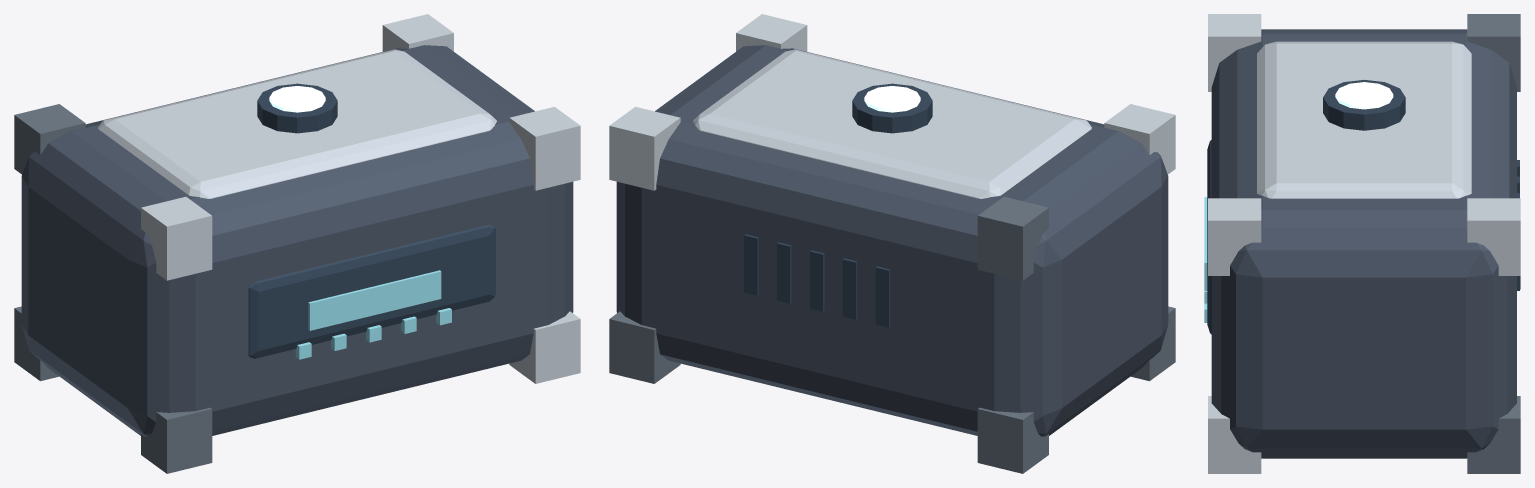
The model's file is box_loot_detail.glb.
3 views of the same model, side by side, from view 1: azimuth 30°, elevation 25°; view 2: azimuth 150°, elevation 25°; view 3: azimuth 270°, elevation 25° (orthographic). The views are drawn at different scales.
Parts seen in each view (by area): view 1: sci_fi_chassis, reinforced_lid, front_interface_armor, outer_corner_joint_011, outer_corner_joint_111, front_hologram_window, outer_corner_joint_010, outer_corner_joint_110, outer_corner_joint_001, top_lock, outer_corner_joint_101, top_lock_energy (+1 smaller); view 2: sci_fi_chassis, reinforced_lid, outer_corner_joint_001, outer_corner_joint_101, outer_corner_joint_000, outer_corner_joint_100, outer_corner_joint_011, top_lock, outer_corner_joint_111, top_lock_energy, outer_corner_joint_010, rear_heat_vents_-1 (+4 smaller); view 3: sci_fi_chassis, reinforced_lid, outer_corner_joint_101, outer_corner_joint_111, top_lock, outer_corner_joint_100, outer_corner_joint_001, outer_corner_joint_011, outer_corner_joint_110, top_lock_energy, front_interface_armor, front_hologram_window.
Boxes of the visible parts, box(x1,y1,x2,y2) form: sci_fi_chassis: box(21, 45, 573, 436); reinforced_lid: box(98, 49, 496, 198); front_interface_armor: box(248, 224, 495, 358); outer_corner_joint_011: box(141, 196, 212, 280); outer_corner_joint_111: box(509, 106, 580, 190); front_hologram_window: box(308, 270, 441, 330); outer_corner_joint_010: box(141, 407, 212, 473); outer_corner_joint_110: box(509, 311, 580, 383); outer_corner_joint_001: box(14, 104, 85, 174); top_lock: box(257, 83, 337, 133); outer_corner_joint_101: box(382, 14, 453, 51); top_lock_energy: box(269, 86, 325, 112); sci_fi_chassis: box(616, 45, 1168, 436); reinforced_lid: box(693, 49, 1091, 198); outer_corner_joint_001: box(977, 196, 1048, 280); outer_corner_joint_101: box(609, 106, 680, 190); outer_corner_joint_000: box(977, 407, 1048, 473); outer_corner_joint_100: box(609, 311, 680, 383); outer_corner_joint_011: box(1104, 104, 1175, 174); top_lock: box(852, 83, 932, 133); outer_corner_joint_111: box(736, 14, 807, 51); top_lock_energy: box(864, 86, 920, 112); outer_corner_joint_010: box(1131, 306, 1175, 381); rear_heat_vents_-1: box(842, 258, 857, 319); sci_fi_chassis: box(1211, 29, 1516, 458); reinforced_lid: box(1257, 41, 1471, 198); outer_corner_joint_101: box(1467, 198, 1520, 275); outer_corner_joint_111: box(1208, 198, 1261, 275); top_lock: box(1323, 79, 1405, 130); outer_corner_joint_100: box(1467, 396, 1520, 473); outer_corner_joint_001: box(1467, 14, 1520, 91); outer_corner_joint_011: box(1208, 14, 1261, 91); outer_corner_joint_110: box(1208, 396, 1261, 473); top_lock_energy: box(1335, 82, 1393, 109); front_interface_armor: box(1207, 140, 1211, 334); front_hologram_window: box(1204, 197, 1207, 290).
Bounding box in the file's own units: 2.04 × 1.2 × 1.24.
